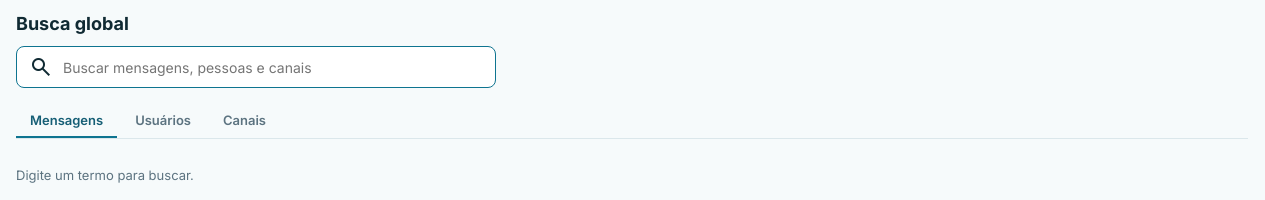
Test: GlobalSearchPage › renders loading, then error, independently per tab
This screenshot has width=1265, height=200.
In the search field labelled "Buscar mensagens, pessoas e canais": (272, 67) [61,58,483,76], type "orion"
Wait 300 ms
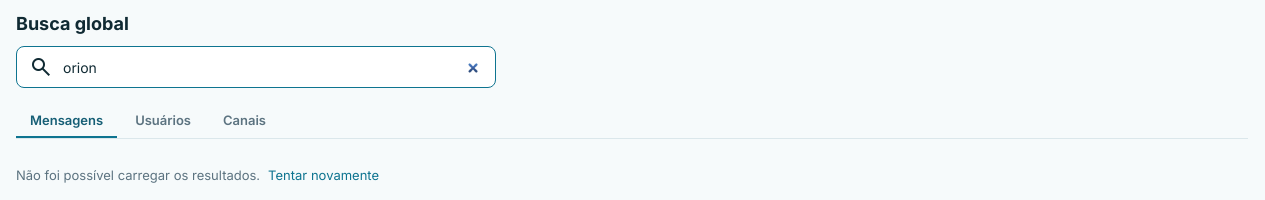
Expected: the message "Não foi possível carregar os resultados. Tentar novamente" is shown, [16,167,379,183]
